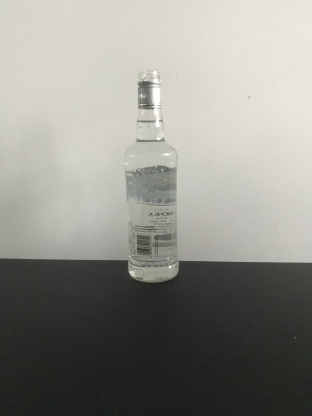nakretka: (135, 69, 163, 110)
